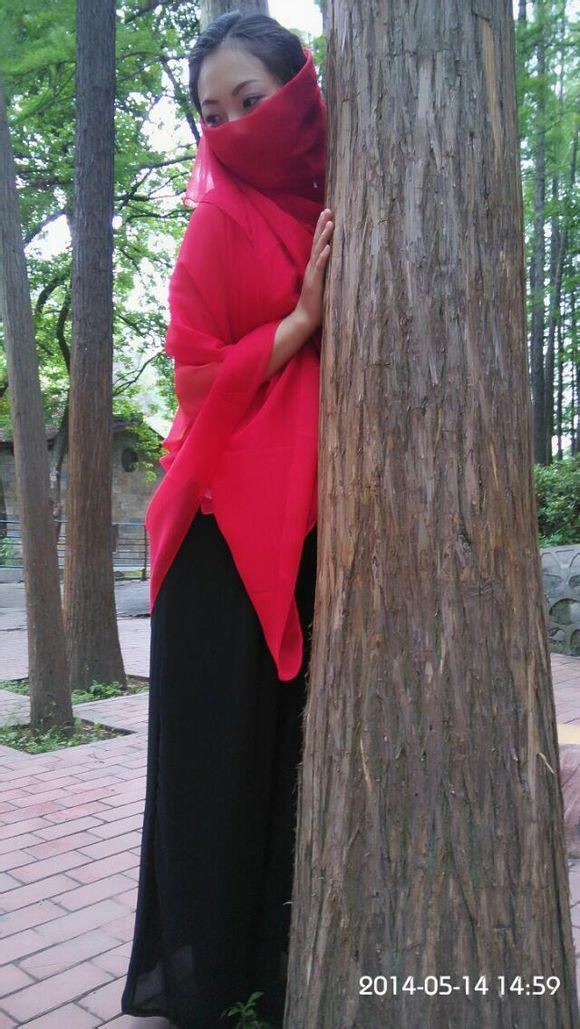OK: (196, 71, 309, 182)
